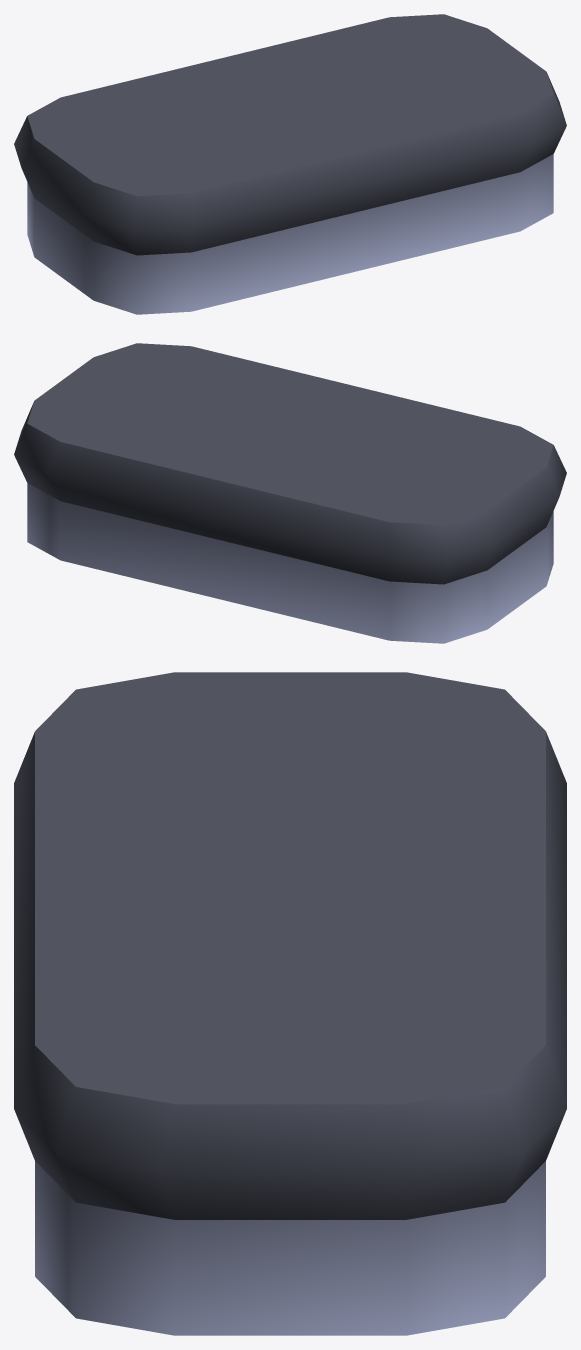
Rendered from block-snow-low-long.glb.
The picture shows the model from 3 angles, top to bottom: view 1: azimuth 30°, elevation 25°; view 2: azimuth 150°, elevation 25°; view 3: azimuth 270°, elevation 25°; orthographic projection. The views are drawn at different scales.
Parts seen in each view (by area): view 1: block-snow-low-long; view 2: block-snow-low-long; view 3: block-snow-low-long.
Part boxes in pixels (x1,y1,x2,y2): block-snow-low-long: (14,14,566,314); block-snow-low-long: (14,343,566,643); block-snow-low-long: (14,672,566,1335).
Bounding box in the file's own units: 2.08 × 0.5 × 1.08.
